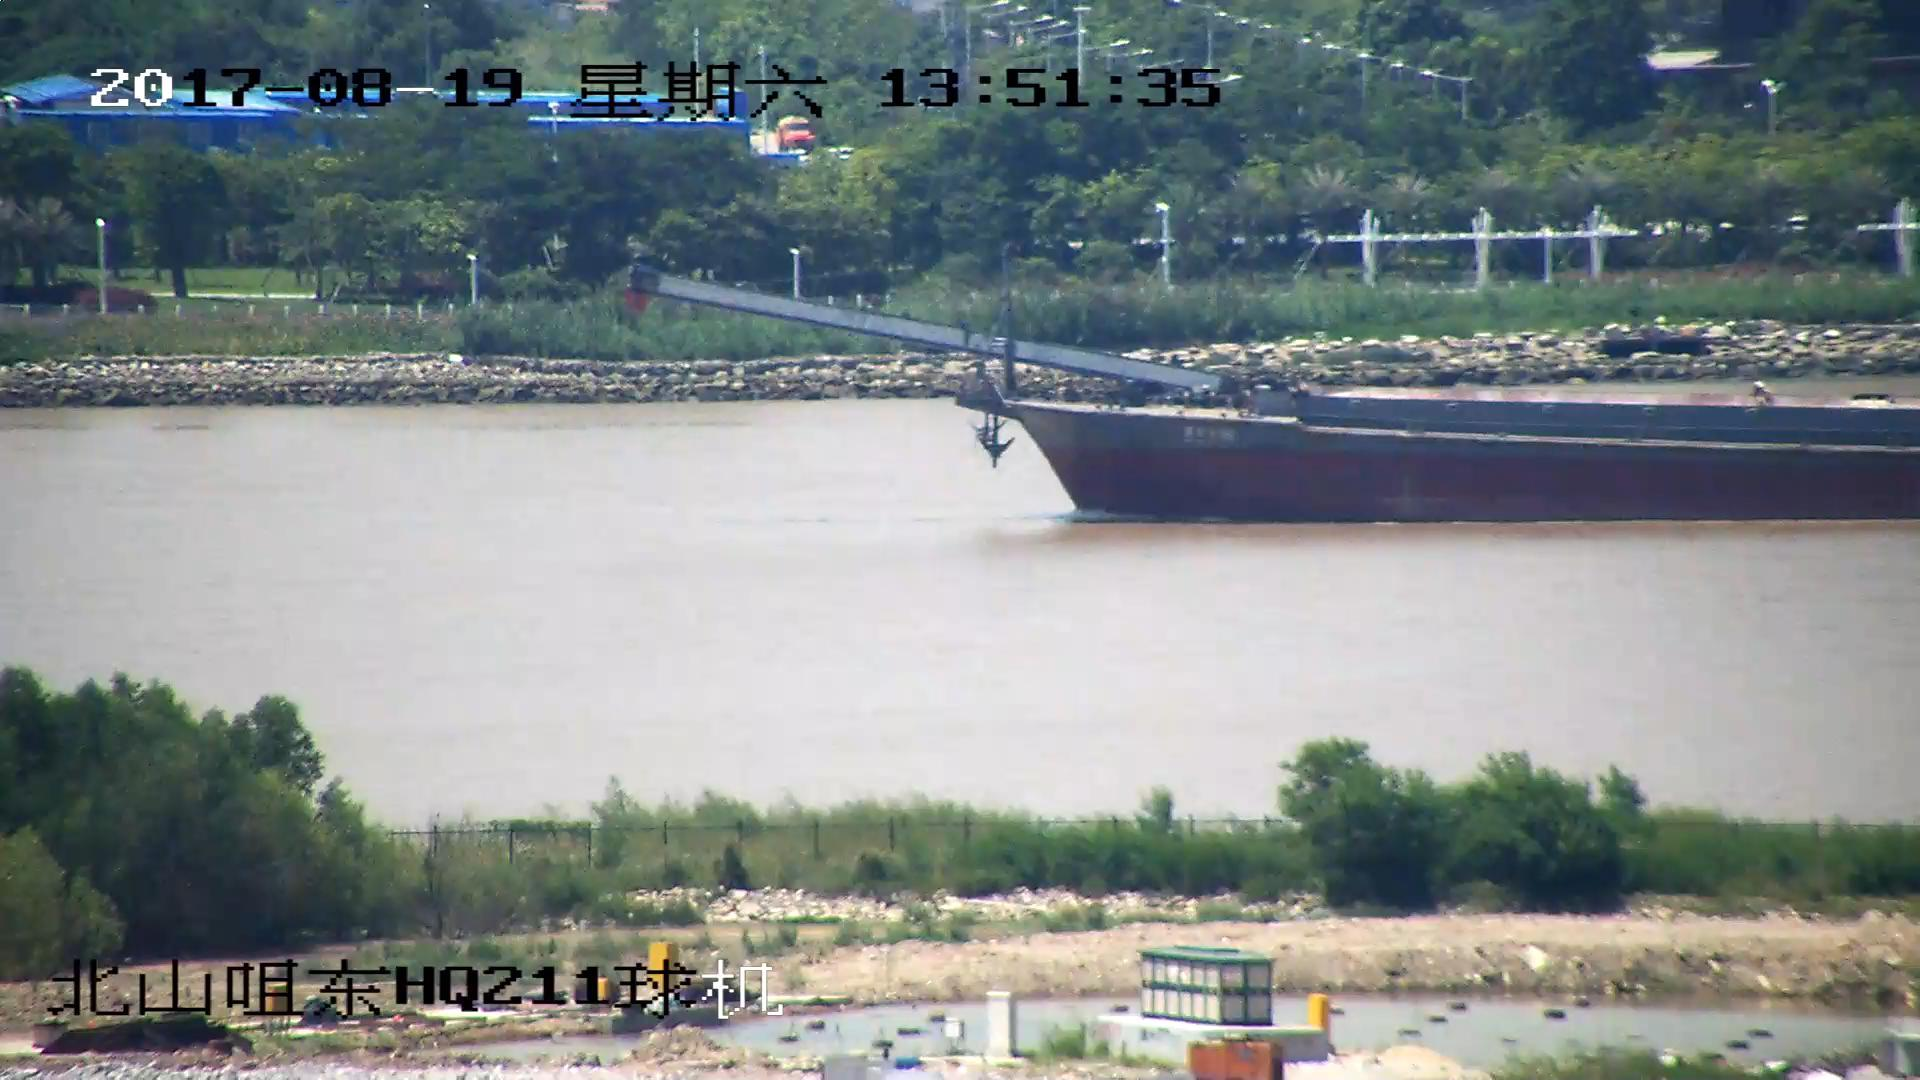Ship: (636, 256, 1920, 524)
